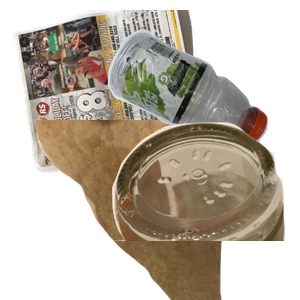glass: (89, 120, 300, 300)
paper: (10, 10, 210, 175)
plastic: (105, 27, 300, 162)
trash: (32, 120, 248, 300)
